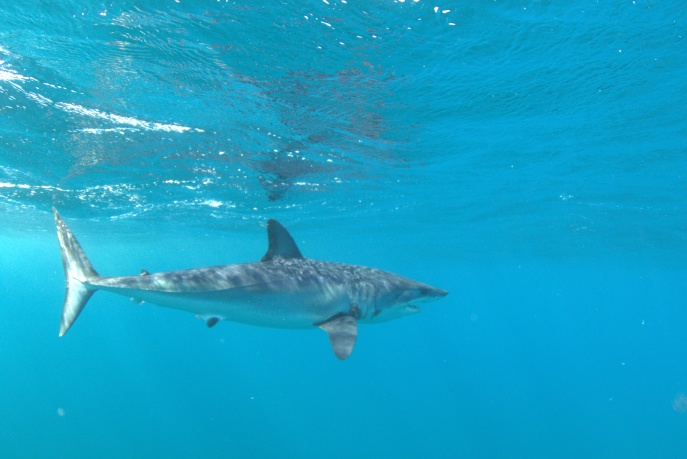Mako: (39, 204, 456, 363)
